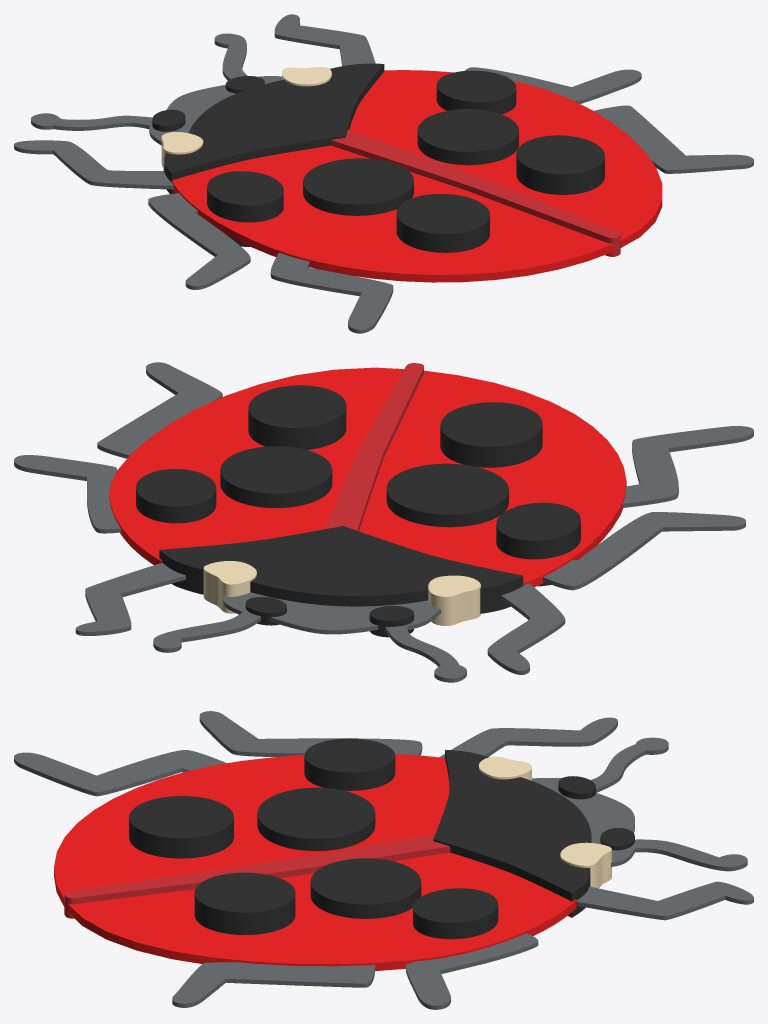
The model's file is emoji_u1f41e.glb.
The picture shows the model from 3 angles, top to bottom: view 1: azimuth 30°, elevation 25°; view 2: azimuth 150°, elevation 25°; view 3: azimuth 270°, elevation 25°; orthographic projection. The views are drawn at different scales.
Visible parts, largest first — view 1: emoji_u1f41e; view 2: emoji_u1f41e; view 3: emoji_u1f41e.
Part boxes in pixels (x1,y1,x2,y2): emoji_u1f41e: (14,14,753,333); emoji_u1f41e: (14,362,753,682); emoji_u1f41e: (14,711,753,1009).
Bounding box in the file's own units: 0.0309 × 0.0026 × 0.0328.
